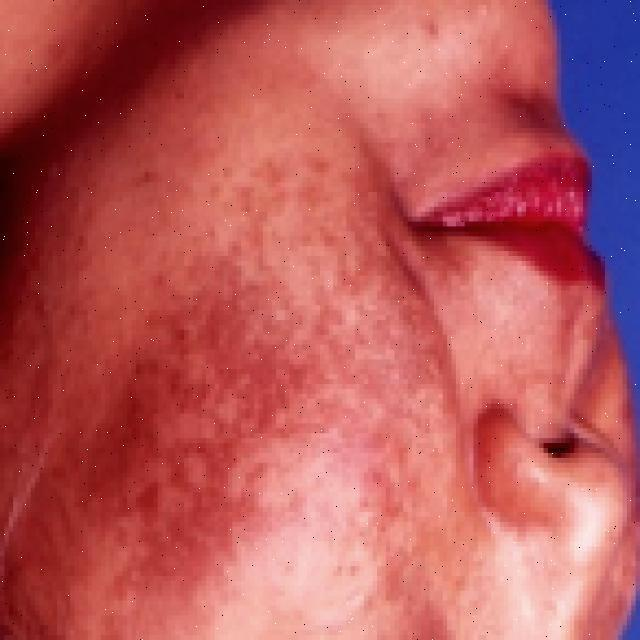Melasma: (0, 160, 432, 639)
